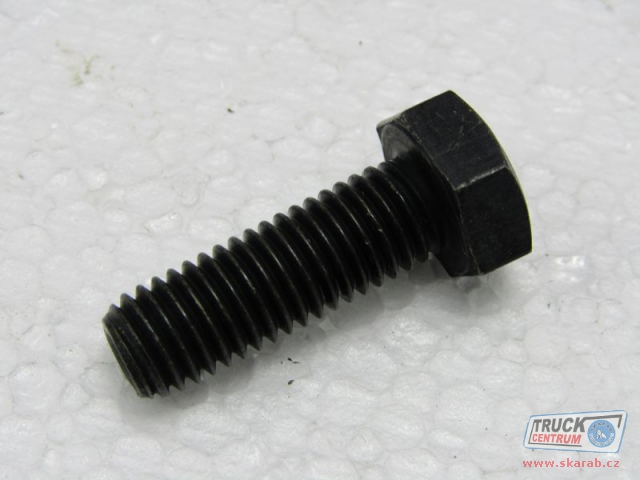screw: (99, 89, 534, 399)
